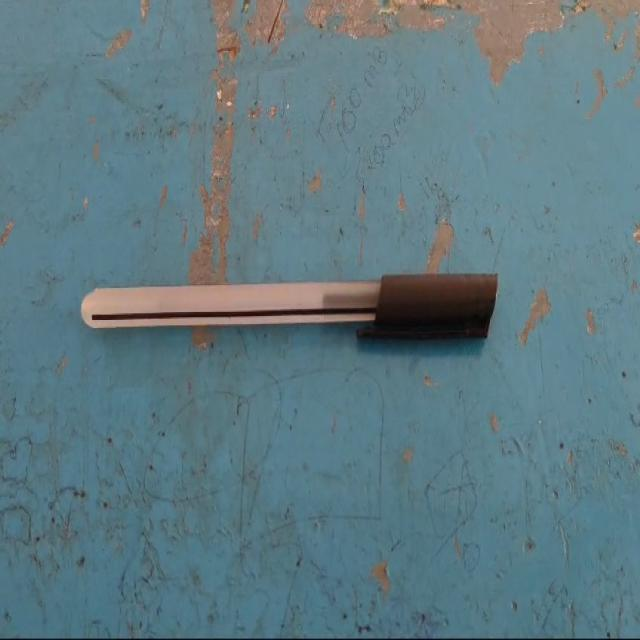pen: (55, 199, 539, 428)
